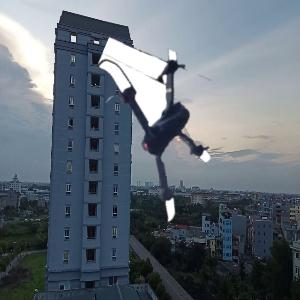drone: (76, 52, 243, 219)
